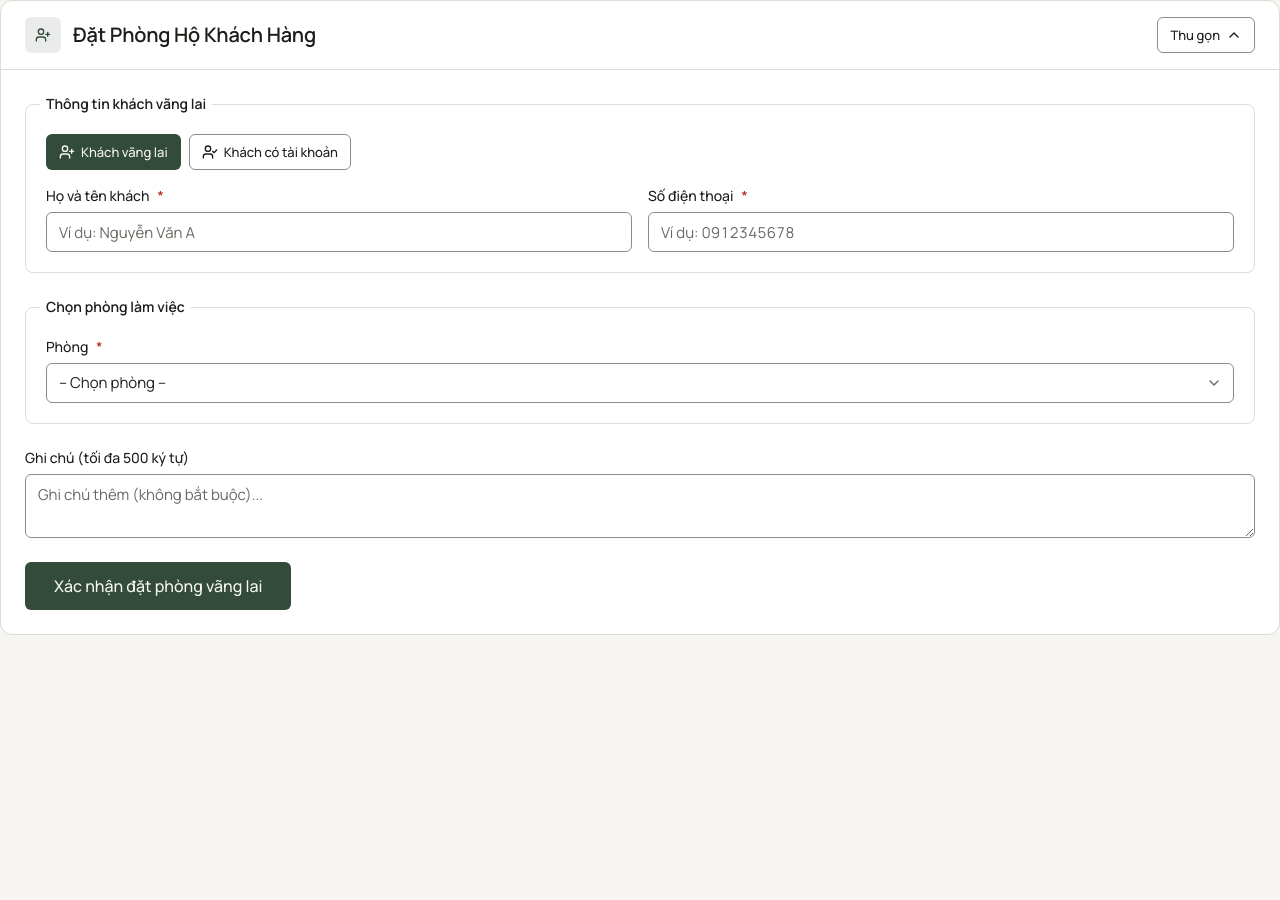
it: AdminGuestBookingForm Component Tests › validates phone number format ("abc") client-side and has inputMode="tel" (CWB-74)
Type "Khách A" into the field with test id "guest-name-input" at (339, 232), box [46,212,632,252]
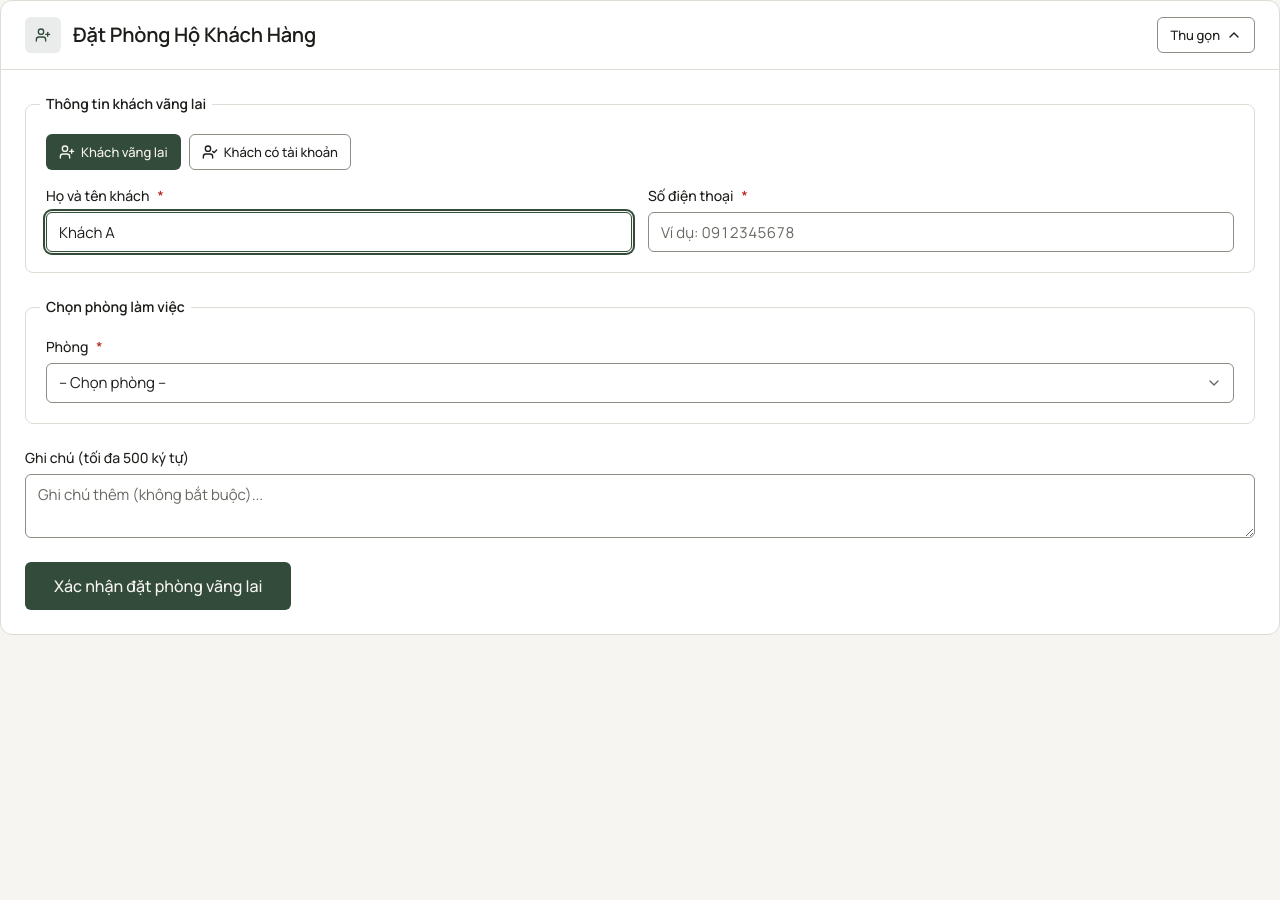
Type "abc" into the field with test id "guest-phone-input" at (941, 232), box [648,212,1234,252]
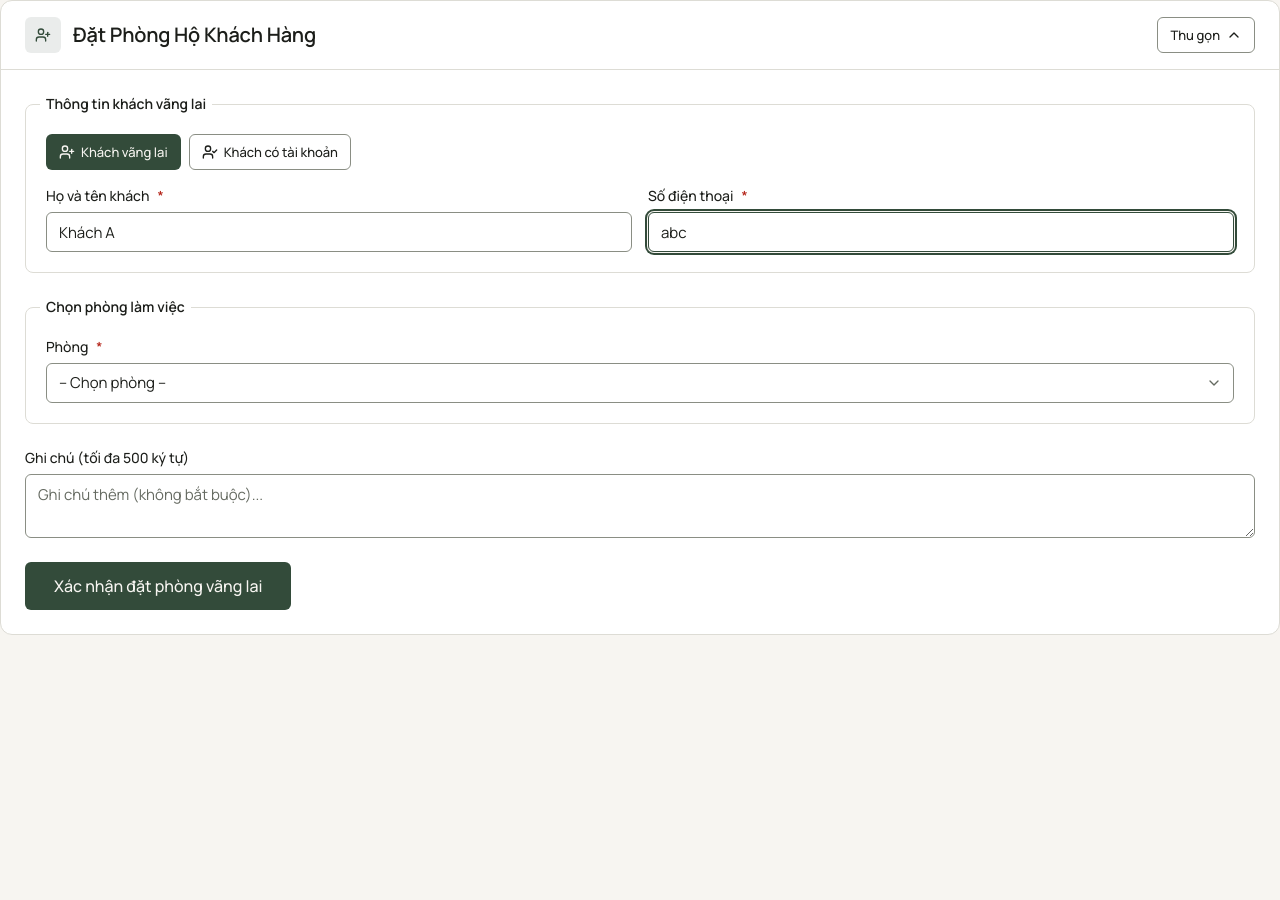
Click the button with test id "guest-submit-btn" at (158, 586), box [25,562,291,610]
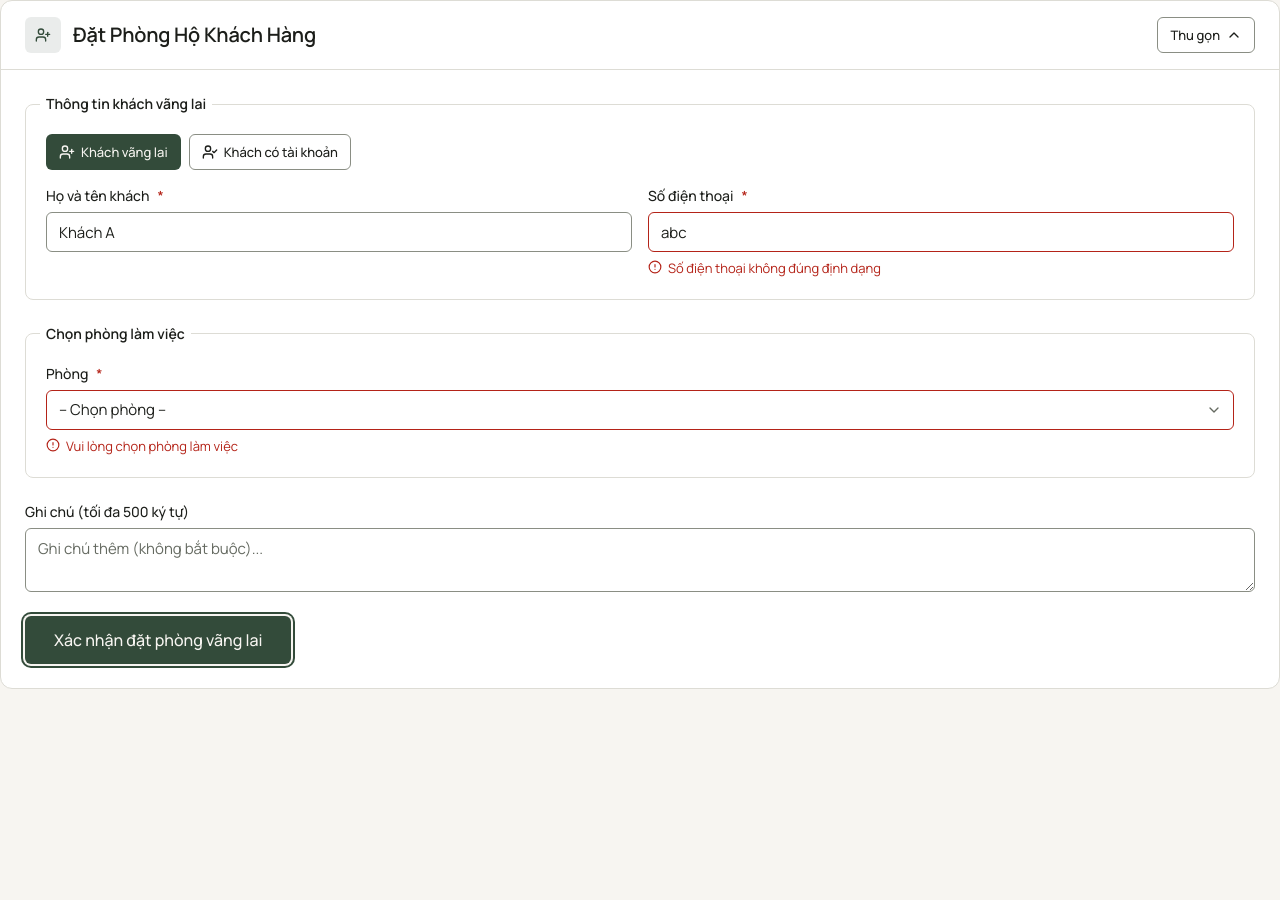
Now the text "Số điện thoại không đúng định dạng" is shown, box [668,258,881,279]
Verify punctuation-only input is rejected
Replace the text in the field with test id "guest-phone-input" with "- ." at (941, 232), box [648,212,1234,252]
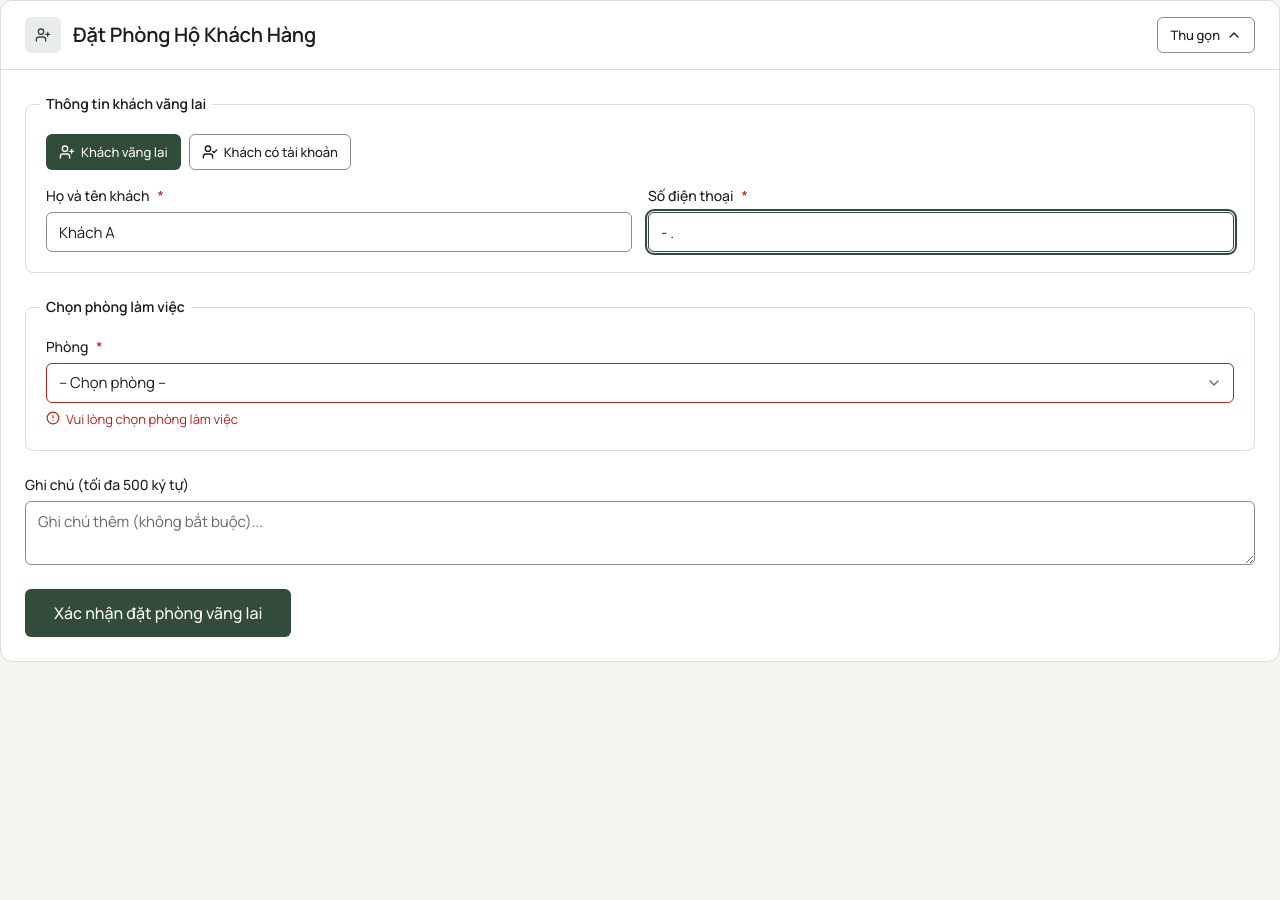
Click the button with test id "guest-submit-btn" at (158, 613), box [25,589,291,637]
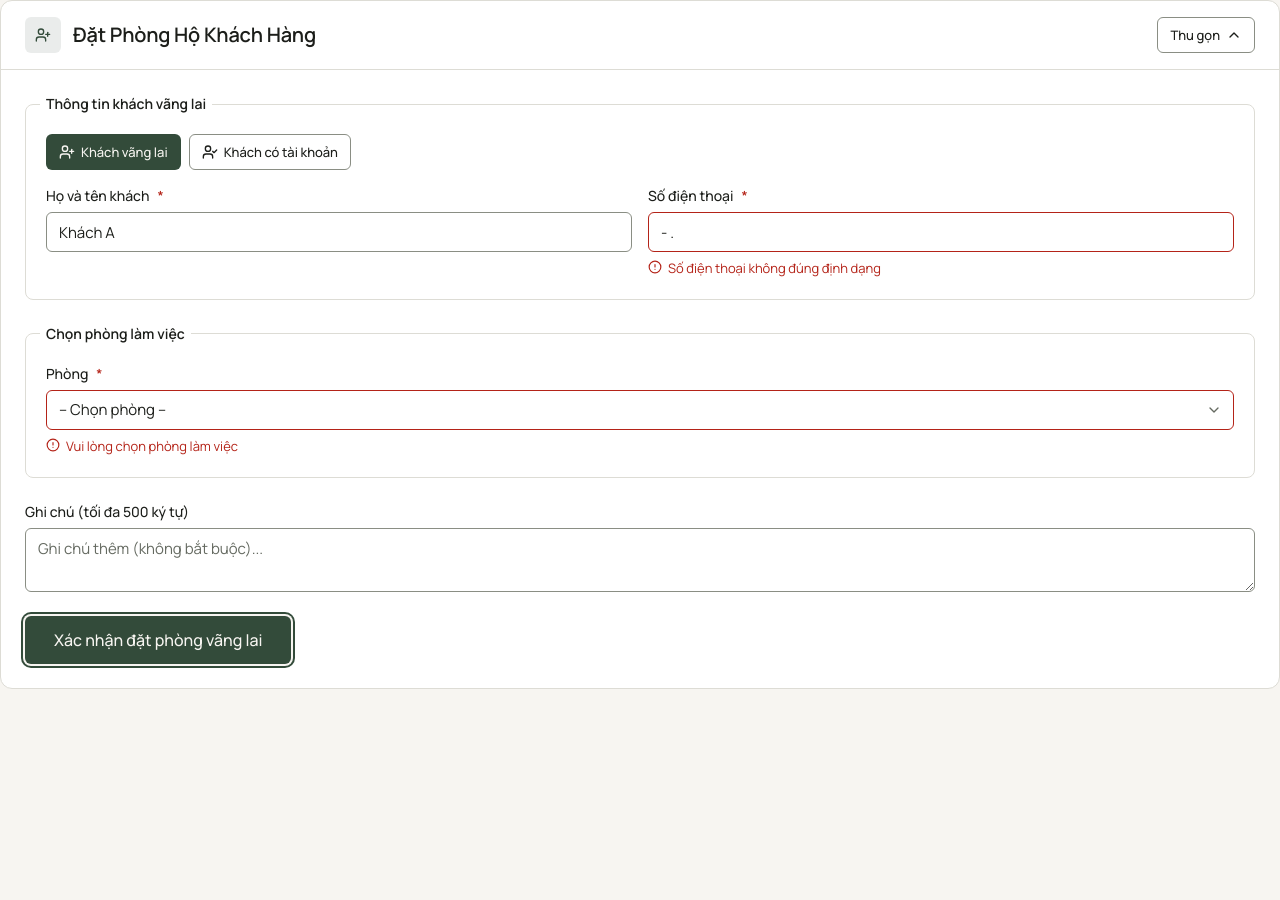
Now the text "Số điện thoại không đúng định dạng" is shown, box [668,258,881,279]
